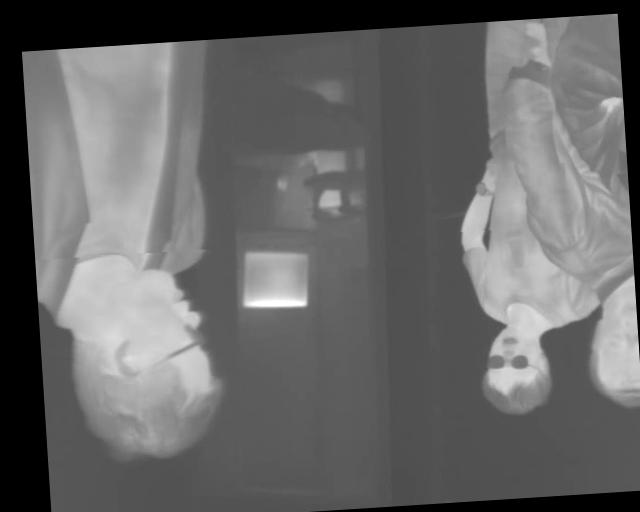face: (479, 324, 552, 417)
